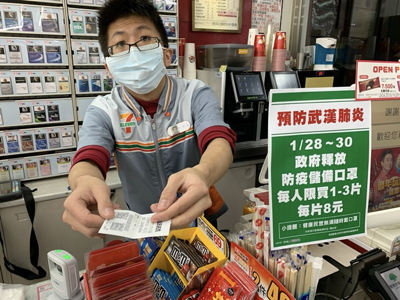with_mask: (105, 23, 170, 96)
